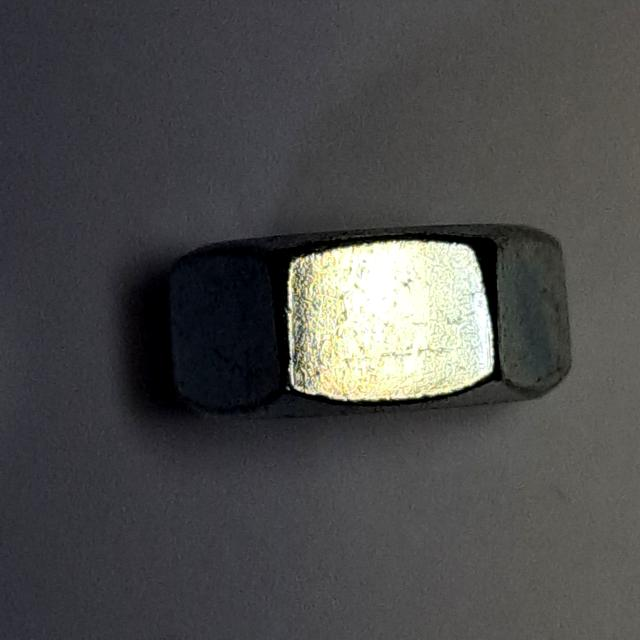Side_Excellent: (154, 215, 591, 438)
